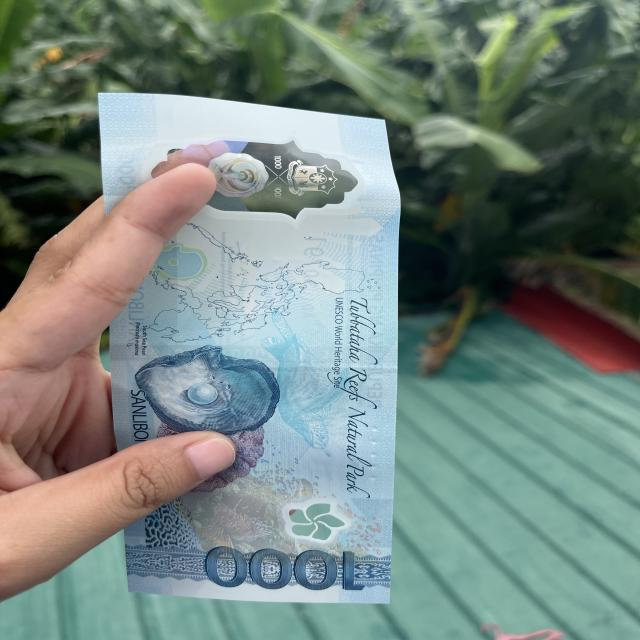clear_window: (100, 132, 399, 226)
sampaguita: (280, 496, 348, 544)
security_thread: (109, 342, 398, 368)
